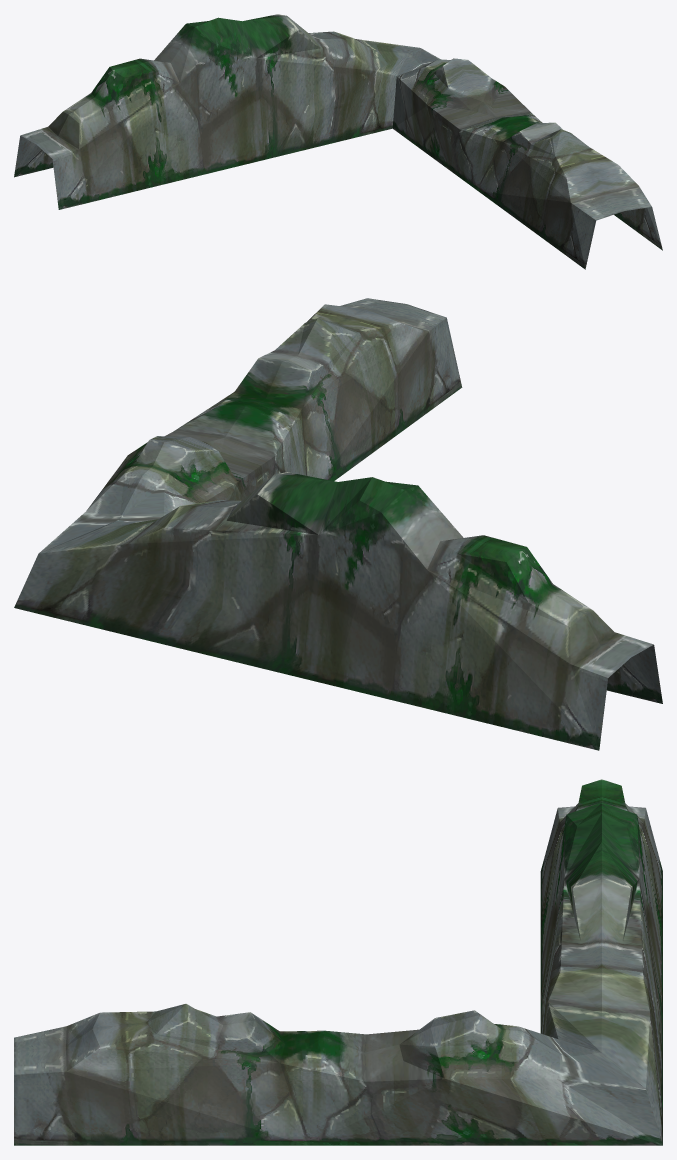
File: stemple_cap_concave_01.fbx
The picture shows the model from 3 angles, top to bottom: view 1: azimuth 30°, elevation 25°; view 2: azimuth 150°, elevation 25°; view 3: azimuth 270°, elevation 25°; orthographic projection. The views are drawn at different scales.
Visible parts, largest first — view 1: obj1.025; view 2: obj1.025; view 3: obj1.025.
Boxes of the visible parts, x1,y1,x2,y2 form: obj1.025: [14, 14, 662, 269]; obj1.025: [14, 298, 662, 750]; obj1.025: [14, 779, 662, 1145].
Size of the model in its own units: 4.42 by 1.35 by 4.42.
